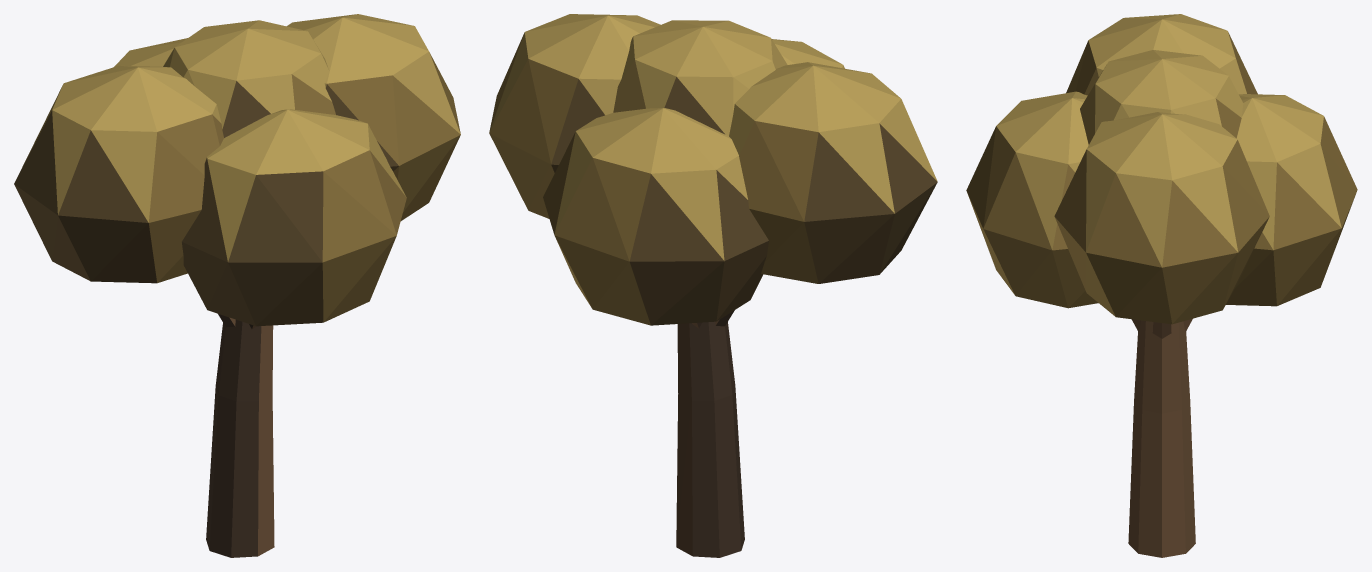
Rendered from TW_TREE_ROUND_BROAD_A_LOD0.glb.
The picture shows the model from 3 angles, left to right: view 1: azimuth 30°, elevation 25°; view 2: azimuth 150°, elevation 25°; view 3: azimuth 270°, elevation 25°; orthographic projection. The views are drawn at different scales.
Parts seen in each view (by area): view 1: TW_TREE_ROUND_BROAD_A_LOD0; view 2: TW_TREE_ROUND_BROAD_A_LOD0; view 3: TW_TREE_ROUND_BROAD_A_LOD0.
Boxes of the visible parts, bbox=[...] form: TW_TREE_ROUND_BROAD_A_LOD0: bbox=[14, 14, 460, 557]; TW_TREE_ROUND_BROAD_A_LOD0: bbox=[489, 14, 937, 557]; TW_TREE_ROUND_BROAD_A_LOD0: bbox=[966, 14, 1357, 557].
Size of the model in its own units: 2.94 by 3.45 by 2.51.
Materials: 1 (1 with a texture image).
